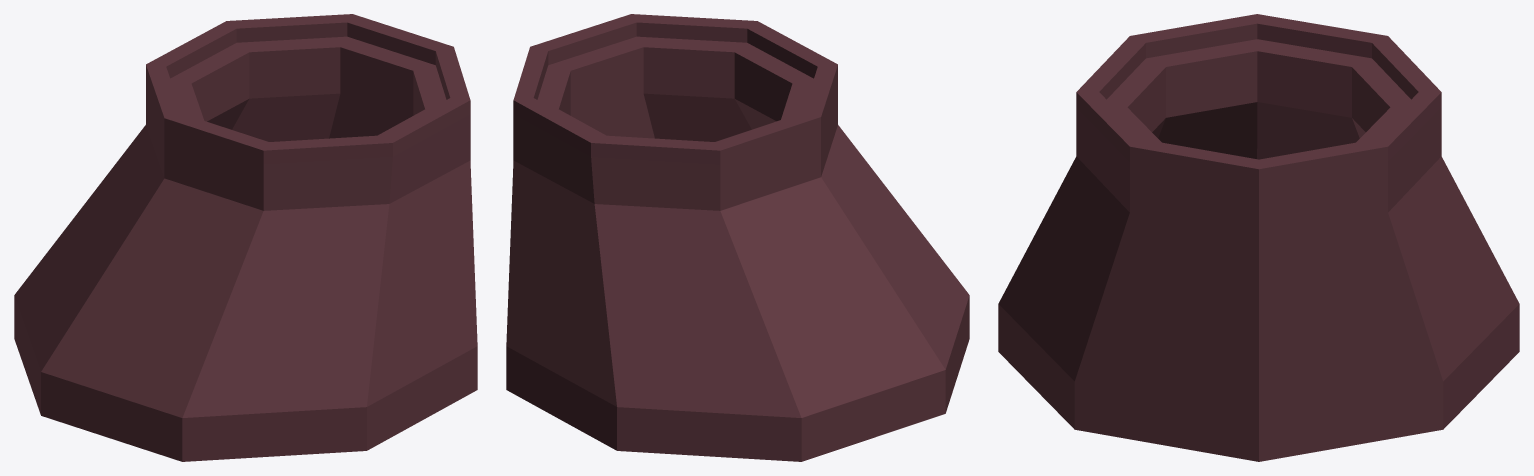
File: concrete-ring-upper.fbx
3 views of the same model, side by side, from view 1: azimuth 30°, elevation 25°; view 2: azimuth 150°, elevation 25°; view 3: azimuth 270°, elevation 25° (orthographic). The views are drawn at different scales.
Visible parts, largest first — view 1: concrete-ring-upper; view 2: concrete-ring-upper; view 3: concrete-ring-upper.
Part boxes in pixels (x1,y1,x2,y2): concrete-ring-upper: [14, 14, 477, 461]; concrete-ring-upper: [506, 14, 969, 461]; concrete-ring-upper: [998, 14, 1519, 461].
Bounding box in the file's own units: 1.24 × 0.7627 × 1.23.
